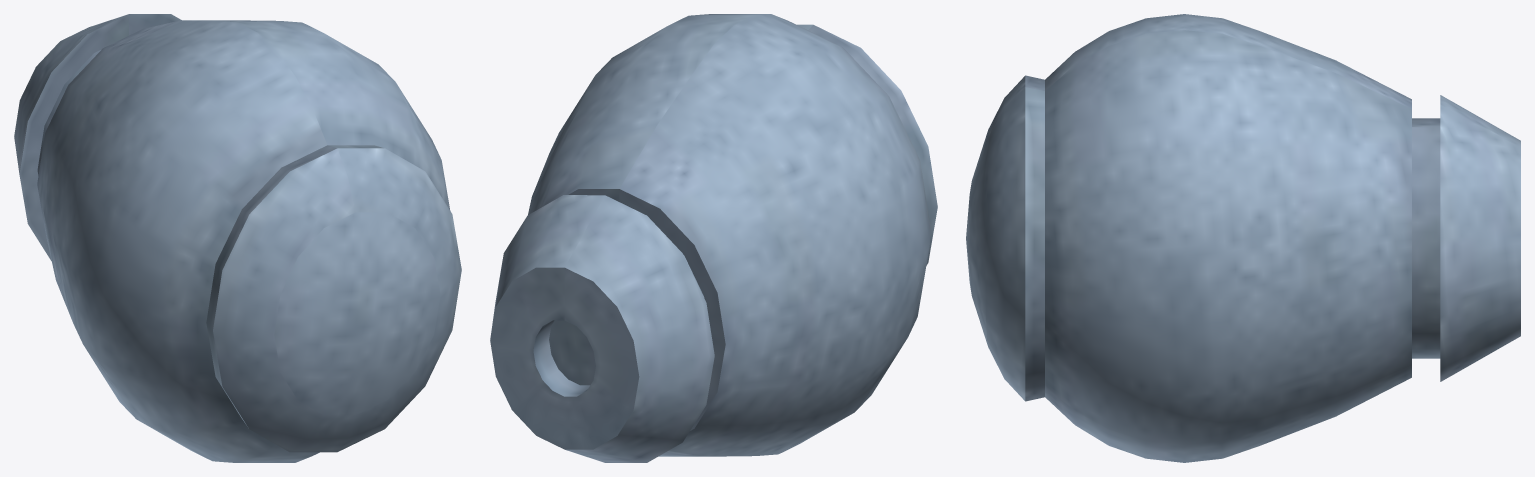
The model's file is Bullet_Projectile_Mesh.fbx.
The picture shows the model from 3 angles, left to right: view 1: azimuth 30°, elevation 25°; view 2: azimuth 150°, elevation 25°; view 3: azimuth 270°, elevation 25°; orthographic projection.
Visible parts, largest first — view 1: Projectile; view 2: Projectile; view 3: Projectile.
Boxes of the visible parts, bbox=[...] form: Projectile: bbox=[14, 14, 461, 462]; Projectile: bbox=[490, 14, 937, 462]; Projectile: bbox=[966, 14, 1520, 462].
Bounding box in the file's own units: 29.48 × 34.39 × 41.48.
Materials: 1 (1 with a texture image).
